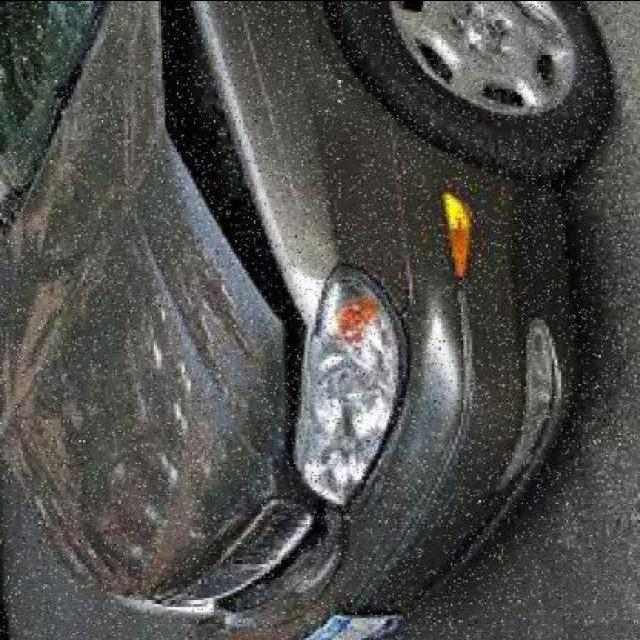bonnet-dent: (1, 2, 305, 598)
fender-dent: (231, 2, 521, 329)
